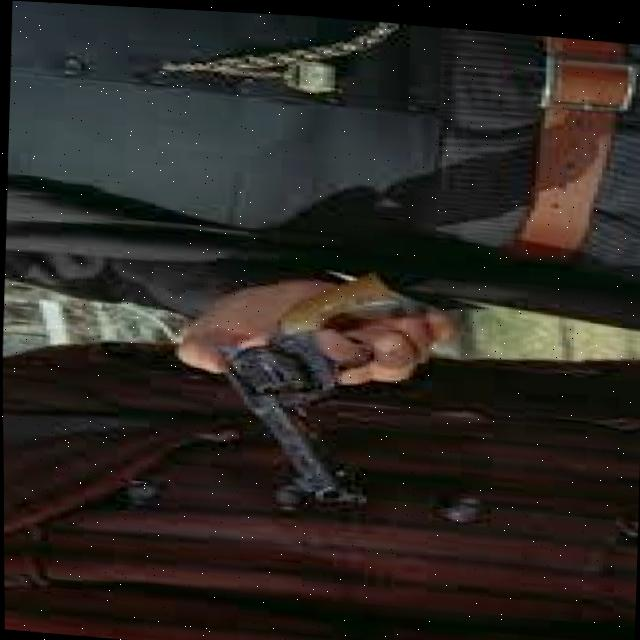pistol: (210, 259, 430, 506)
